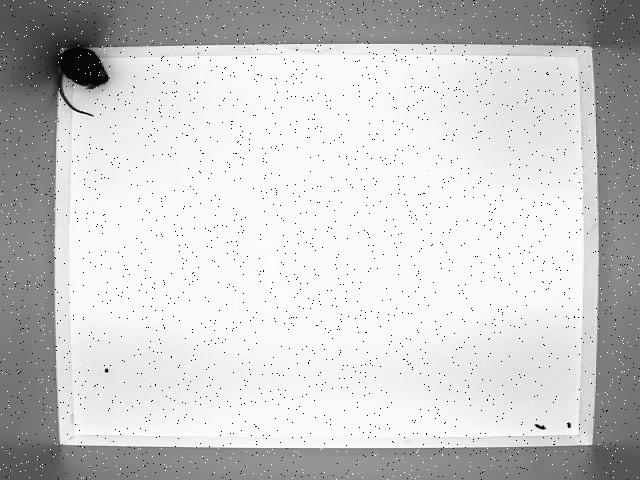Tikus: (59, 41, 108, 118)
